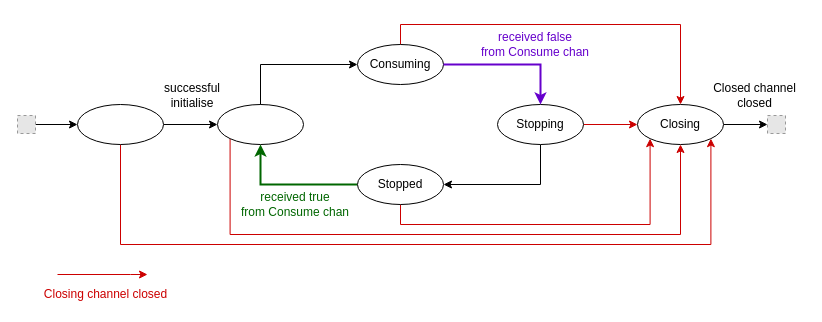
The diagram is 822 pixels wide and 322 high, and some of its shapes have lost their labels. Grey dashed boxes stand in for pictures. Each missing label, with the centre of its shape:
"Initialising" goes at (120,124).
"Starting" goes at (260,124).
